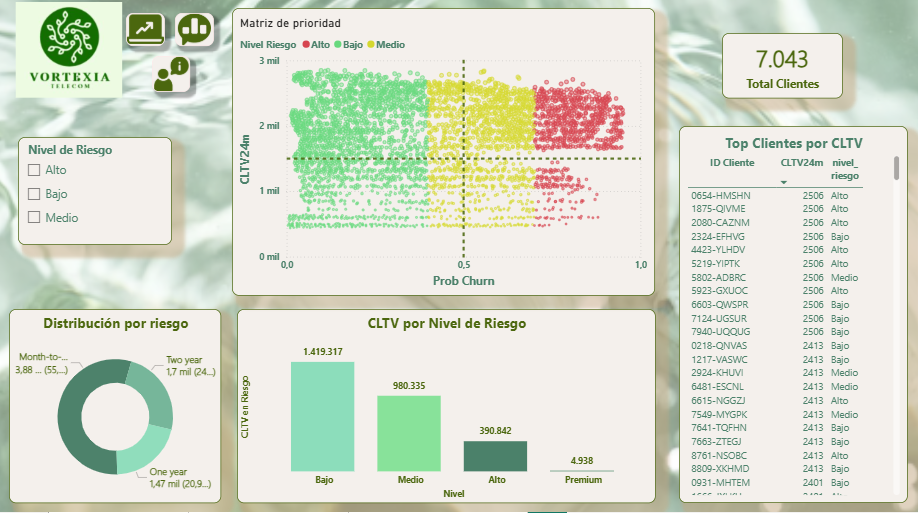

Layout of this report page (visuals, bound fields, positions):
{"tool":"powerbi","page":{"name":"Priorización de Retención","canvas":[1280,720],"ordinal":2},"visuals":[{"type":"tableEx","title":"Top Clientes por CLTV","fields":{"Values":["customers_scored.customerid","customers_scored.cltv_proyectado_24m","customers_scored.nivel_riesgo"]},"box":[945.5,183.3,318.2,524.2],"z":0},{"type":"card","fields":{"Values":["Cálculos.Total Clientes"]},"box":[1004.5,54.5,168.2,90.9],"z":1000},{"type":"clusteredColumnChart","title":"CLTV por Nivel de Riesgo","fields":{"Category":["customers_scored.segmento_valor"],"Y":["Cálculos.CLTV en Riesgo"]},"box":[330.3,437.9,581.8,269.7],"z":2000},{"type":"slicer","fields":{"Values":["customers_scored.nivel_riesgo"]},"box":[25.8,198.5,213.6,150],"z":3000},{"type":"image","box":[22.9,11.4,150,132.9],"z":4000},{"type":"image","box":[176.9,26.2,54.4,45.6],"z":5000},{"type":"image","box":[244.4,26.1,54.4,45.6],"z":6000},{"type":"image","box":[213.3,85.6,53.3,50],"z":7000},{"type":"scatterChart","title":"Matriz de prioridad","fields":{"X":["customers_scored.prob_churn"],"Y":["Avg(customers_scored.cltv_proyectado_24m)"],"Size":["Avg(customers_scored.monthlycharges)"],"Series":["customers_scored.nivel_riesgo"],"Category":["customers_scored.customerid"]},"box":[324.2,19.7,587.9,400],"z":8000},{"type":"actionButton","box":[0,0,100,40],"z":9000},{"type":"donutChart","title":"Distribución por riesgo","fields":{"Category":["customers_scored.contract"],"Y":["CountNonNull(customers_scored.contract)"]},"box":[13.6,437.9,295.5,269.7],"z":10000}]}

Visuals, with their boxes in screenshot pixels (x1, y1, x2, y2), scaled from the page's 1280x720 canvas onto the 918x513 screenshot:
"Top Clientes por CLTV" tableEx: left=678, top=131, right=906, bottom=504
card - Cálculos.Total Clientes: left=720, top=39, right=841, bottom=104
"CLTV por Nivel de Riesgo" clusteredColumnChart: left=237, top=312, right=654, bottom=504
slicer - customers_scored.nivel_riesgo: left=19, top=141, right=172, bottom=248
image: left=16, top=8, right=124, bottom=103
image: left=127, top=19, right=166, bottom=51
image: left=175, top=19, right=214, bottom=51
image: left=153, top=61, right=191, bottom=97
"Matriz de prioridad" scatterChart: left=233, top=14, right=654, bottom=299
actionButton: left=0, top=0, right=72, bottom=28
"Distribución por riesgo" donutChart: left=10, top=312, right=222, bottom=504
